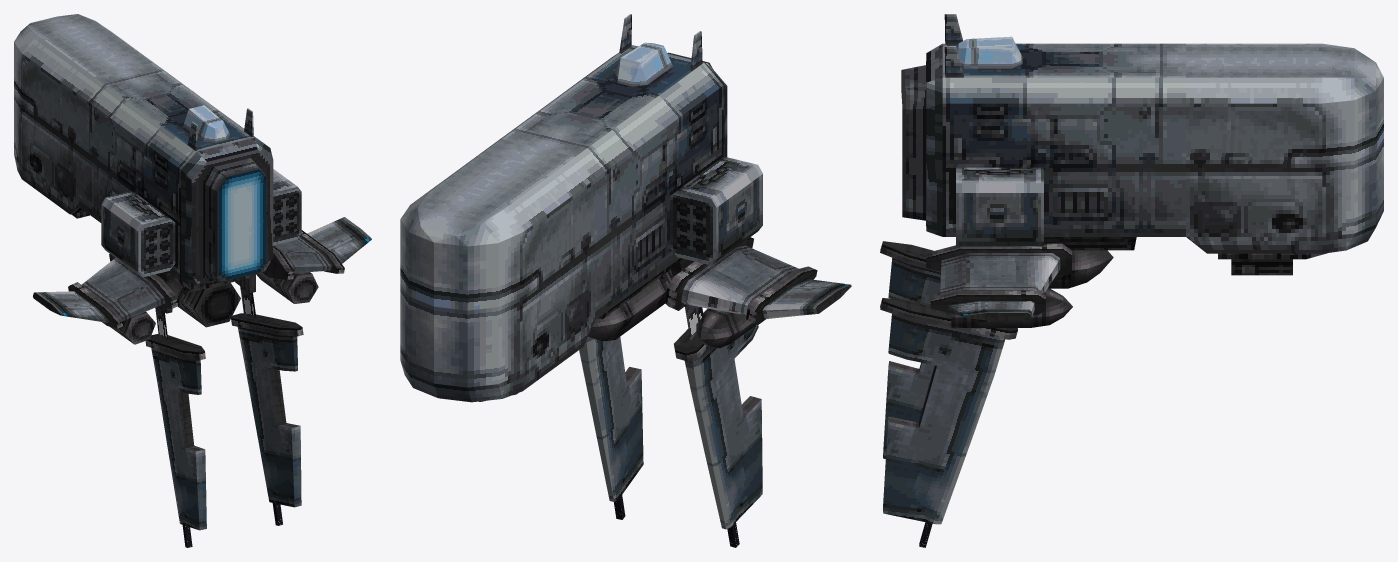
File: hj_magnum.gltf
3 views of the same model, side by side, from view 1: azimuth 30°, elevation 25°; view 2: azimuth 150°, elevation 25°; view 3: azimuth 270°, elevation 25° (orthographic). The views are drawn at different scales.
Visible parts, largest first — view 1: Object 1, Object 4, Object 7, Object 5, Object 2, Object 3, Object 6; view 2: Object 1, Object 7, Object 5, Object 4, Object 6; view 3: Object 1, Object 4, Object 2, Object 7, Object 3.
Part boxes in pixels (x1,y1,x2,y2): Object 1: (14, 14, 301, 327); Object 4: (231, 286, 303, 525); Object 7: (145, 307, 206, 547); Object 5: (68, 254, 179, 344); Object 2: (256, 230, 344, 303); Object 3: (307, 217, 371, 263); Object 6: (33, 291, 108, 322); Object 1: (400, 14, 762, 402); Object 7: (674, 305, 762, 547); Object 5: (664, 237, 817, 348); Object 4: (579, 337, 643, 519); Object 6: (762, 279, 851, 318); Object 1: (901, 14, 1383, 288); Object 4: (880, 298, 1017, 547); Object 2: (926, 243, 1072, 327); Object 7: (880, 241, 940, 458); Object 3: (947, 301, 1034, 320).
Size of the model in its own units: 278 by 349 by 325.
Materials: 11 (11 with a texture image).
